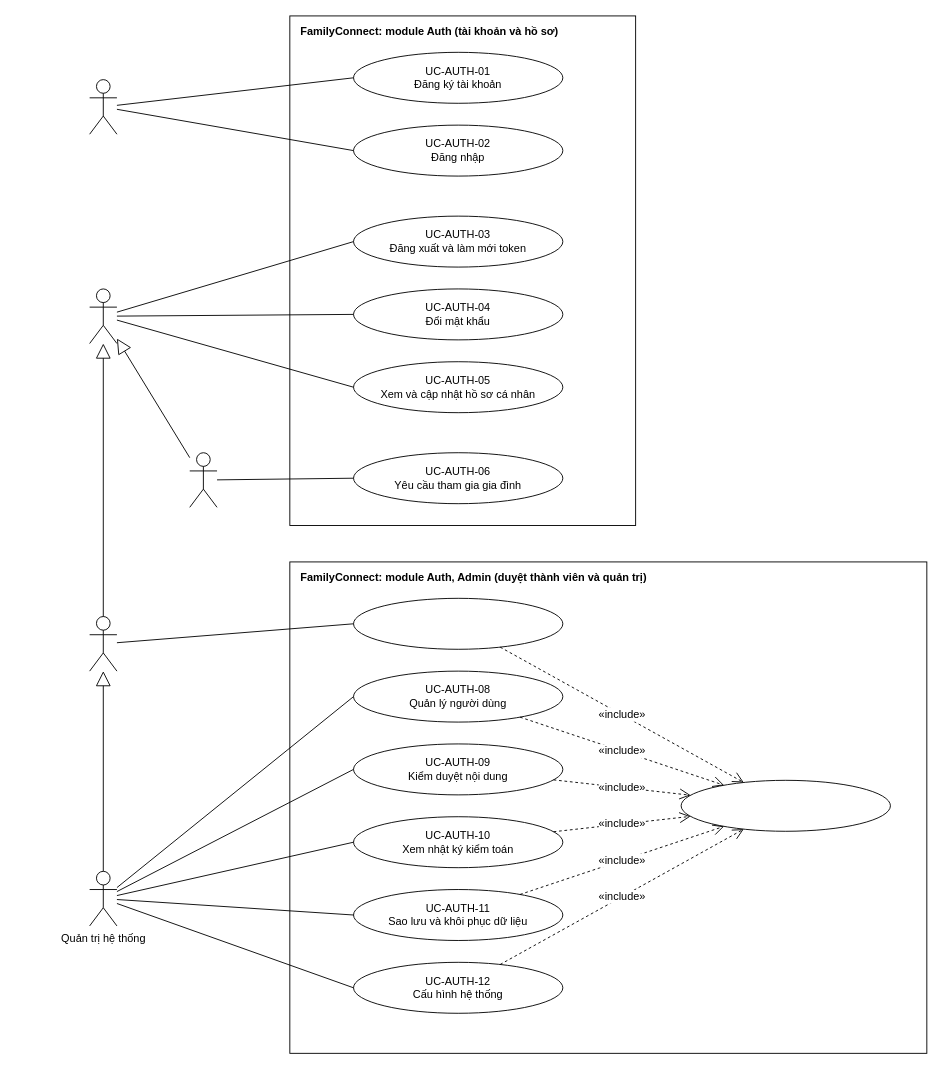
This 943x1069 diagram has some shape labels left out. The centre of each missing label's shape, as x and y in pixels:
Khách: (x=103, y=106)
Người dùng đã đăng nhập (trừu tượng): (x=103, y=316)
Thành viên chưa xác minh: (x=203, y=479)
Trưởng chi: (x=103, y=643)
UC-AUTH-07 Duyệt hoặc từ chối yêu cầu tham gia: (x=458, y=623)
UC-AUTH-13 Kiểm soát truy cập theo vai trò: (x=785, y=805)
